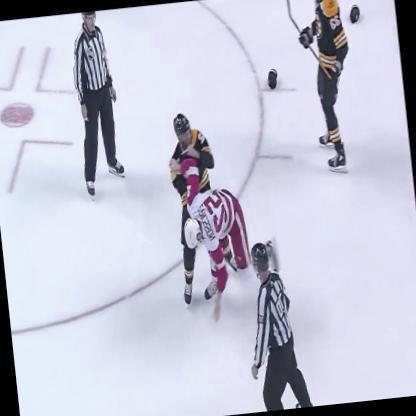non-Voilence: (65, 10, 132, 206), (291, 0, 363, 176), (240, 238, 310, 411)
voilence: (162, 106, 256, 324)
